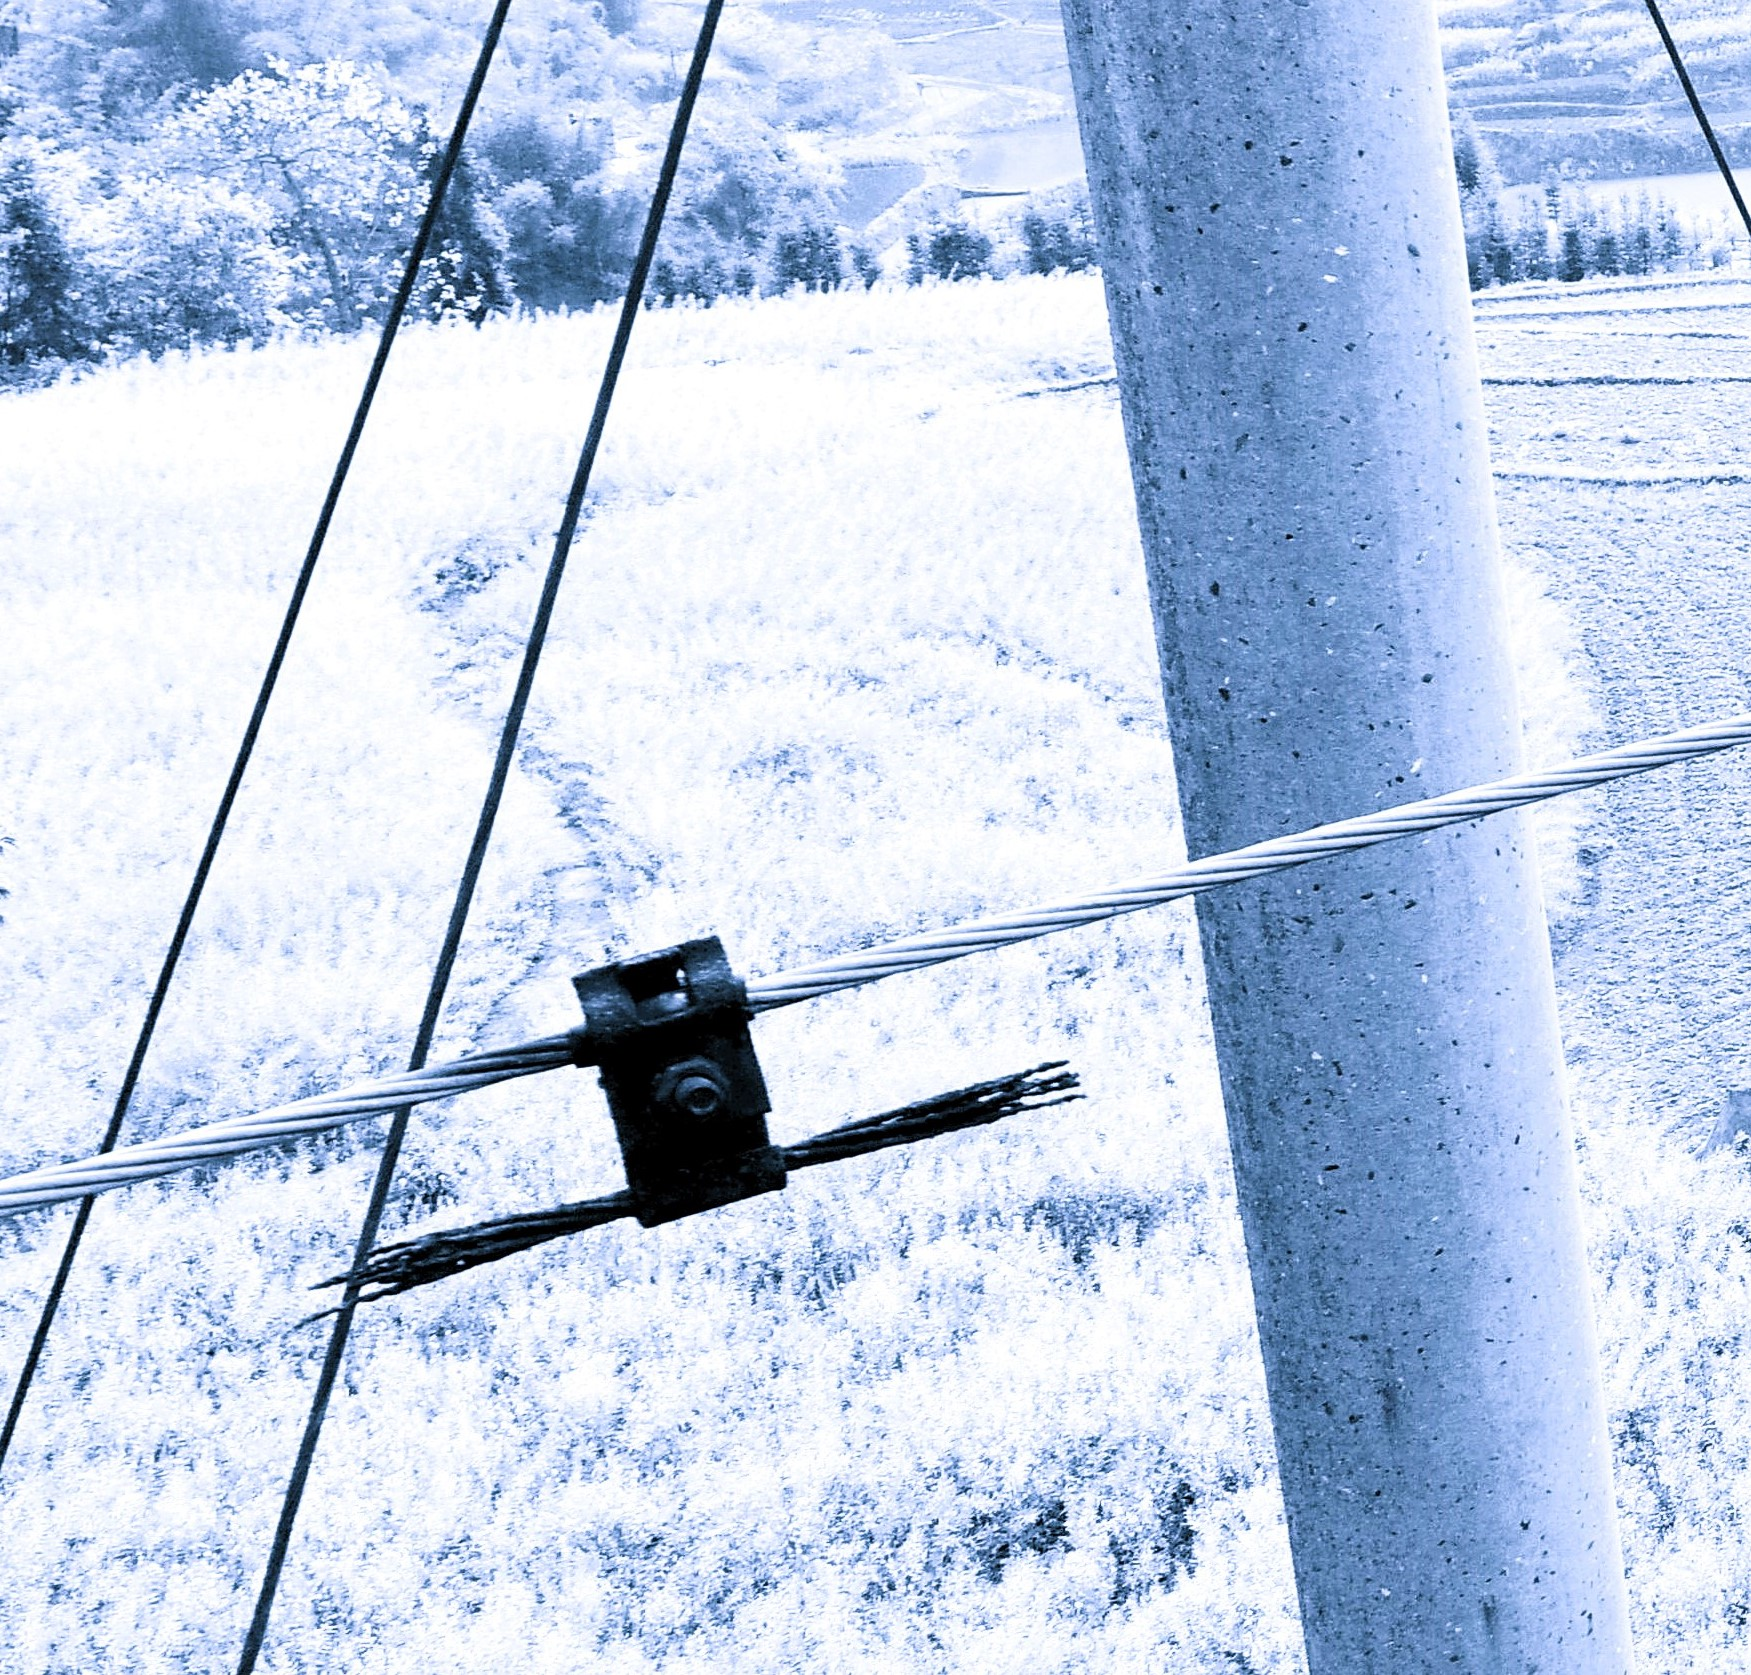Damage of shockproof hammer: (270, 877, 1140, 1358)
